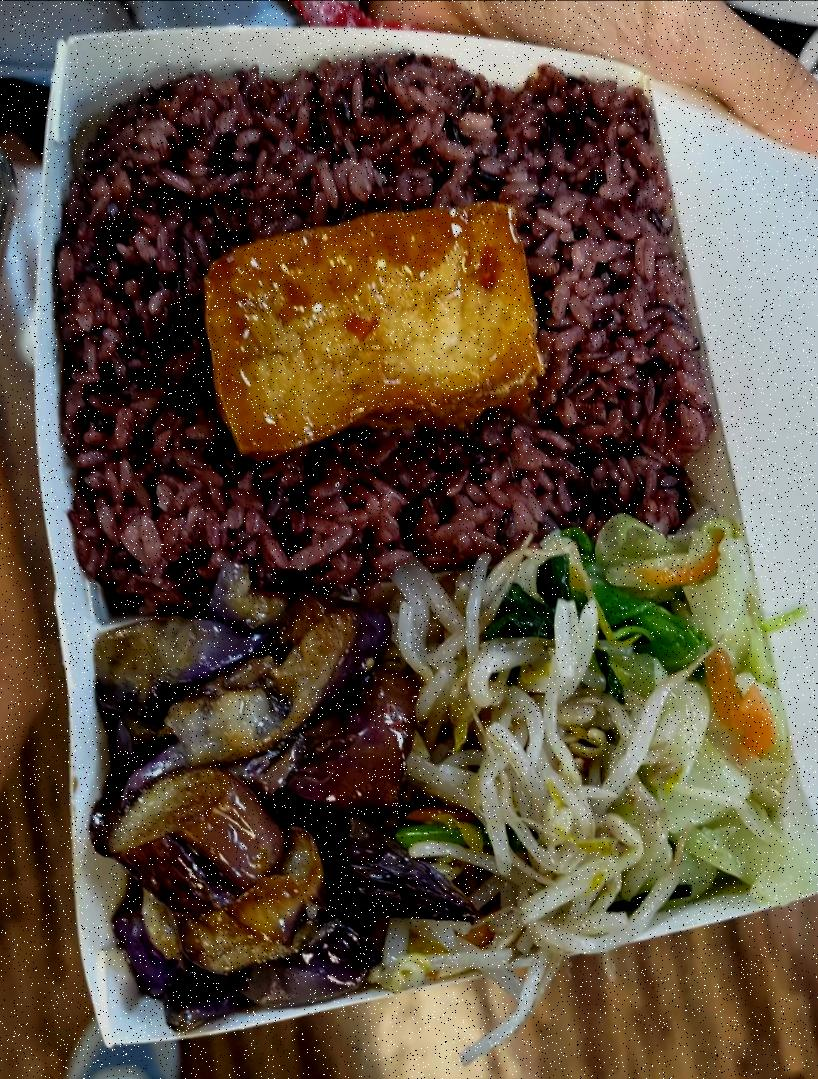big grilled chicken leg: (26, 8, 818, 1074)
braised fish: (71, 59, 702, 574)
braised fish fillet: (386, 522, 784, 952), (90, 568, 418, 1022), (191, 196, 548, 461)
